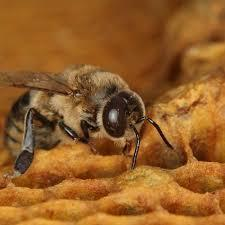worker-bee: (0, 64, 172, 177)
